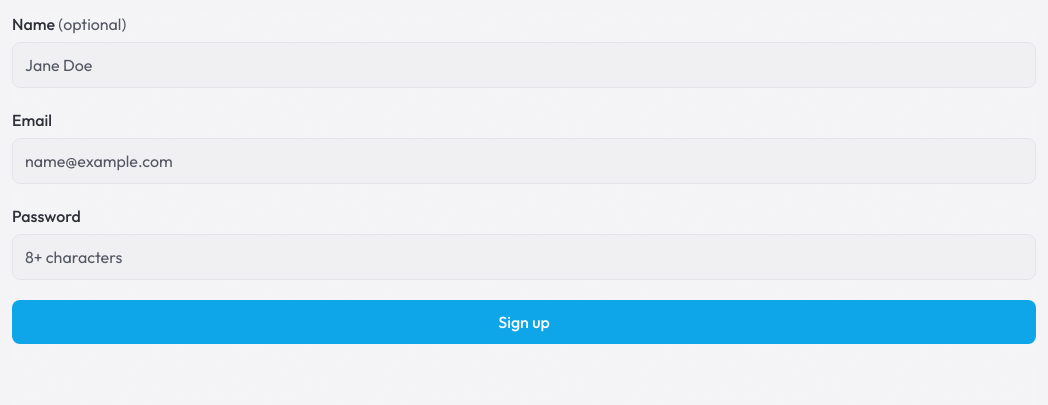
Test case: SignupForm › validation › shows email validation error when email format is invalid
Type "not-an-email" into the field labelled "Email" at (524, 161), box [12,138,1036,184]
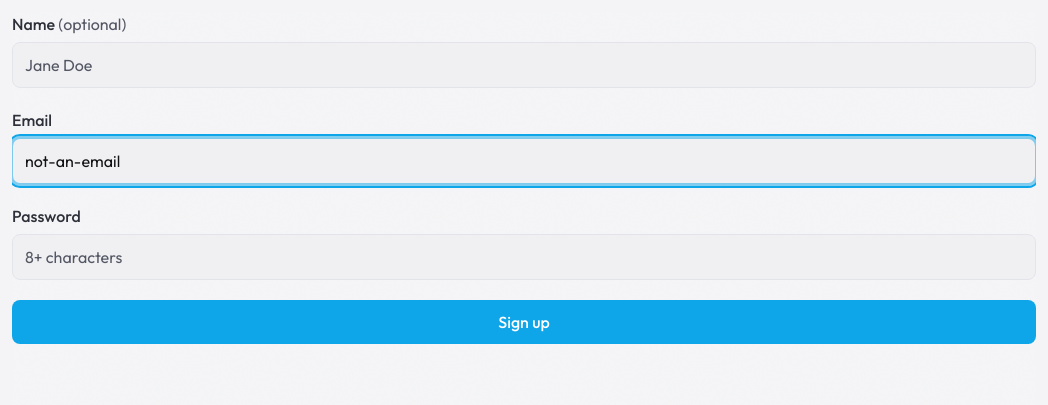
Click the button "Sign up" at (524, 322), box [12,300,1036,344]
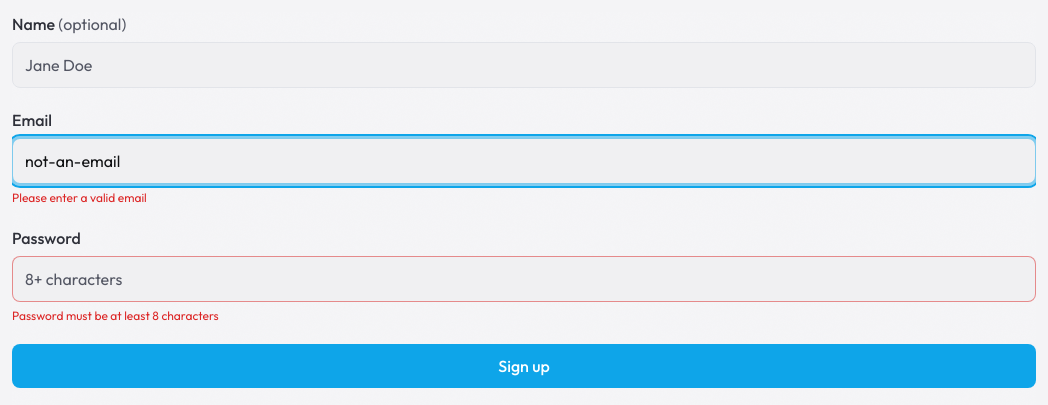
expect the text "Please enter a valid email" is shown: met, box [12,190,147,205]
